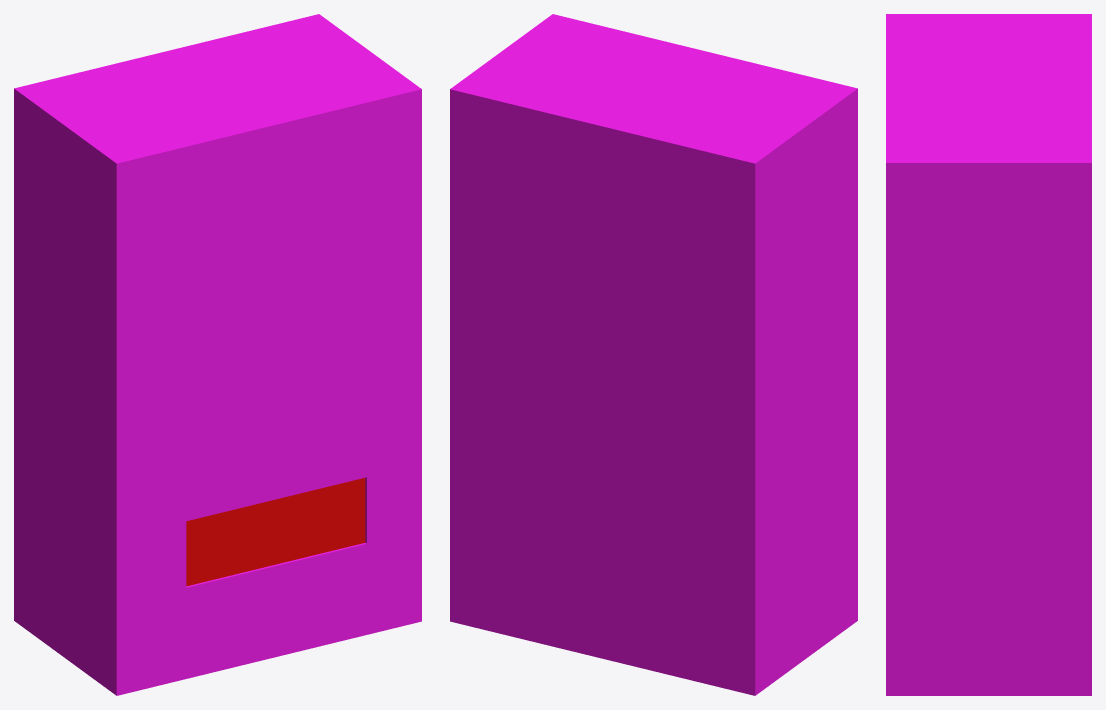
Rendered from PastaPacket.fbx.
The picture shows the model from 3 angles, left to right: view 1: azimuth 30°, elevation 25°; view 2: azimuth 150°, elevation 25°; view 3: azimuth 270°, elevation 25°; orthographic projection.
Parts seen in each view (by area): view 1: PastaPacket1; view 2: PastaPacket1; view 3: PastaPacket1.
Part boxes in pixels (x1,y1,x2,y2): PastaPacket1: (14,14,421,695); PastaPacket1: (450,14,857,695); PastaPacket1: (886,14,1091,695).
Bounding box in the file's own units: 12 × 20 × 7.
